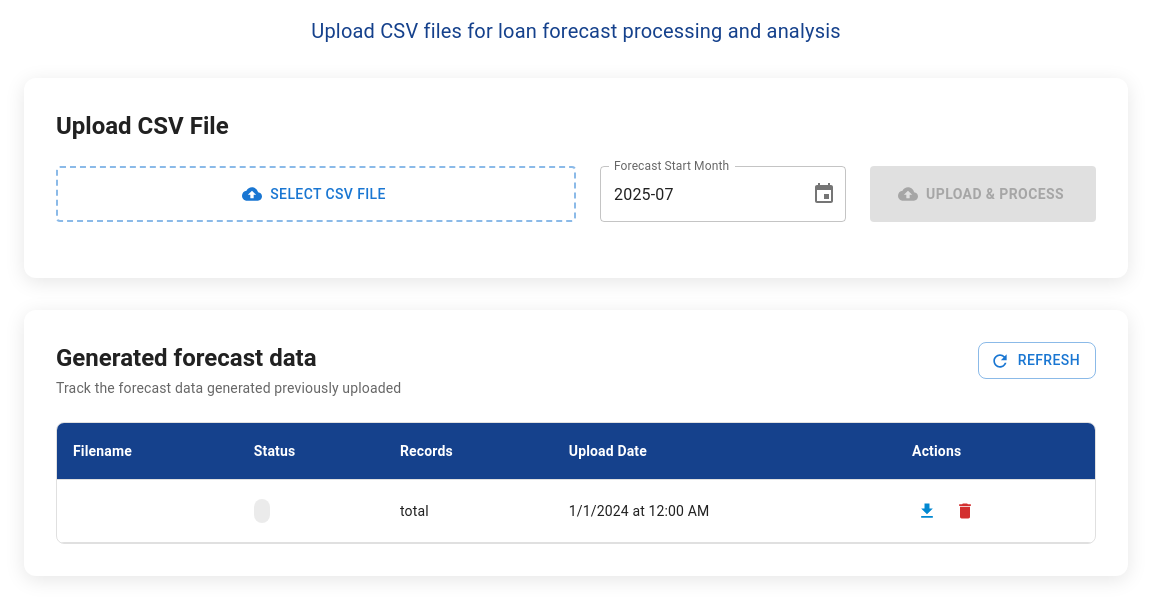
Test: DataUpload › shows error on deleteUploadHistory failure
(page scrolled)
Click the button with test id "DeleteIcon": [965, 511] box [950, 496, 980, 526]
(page scrolled)
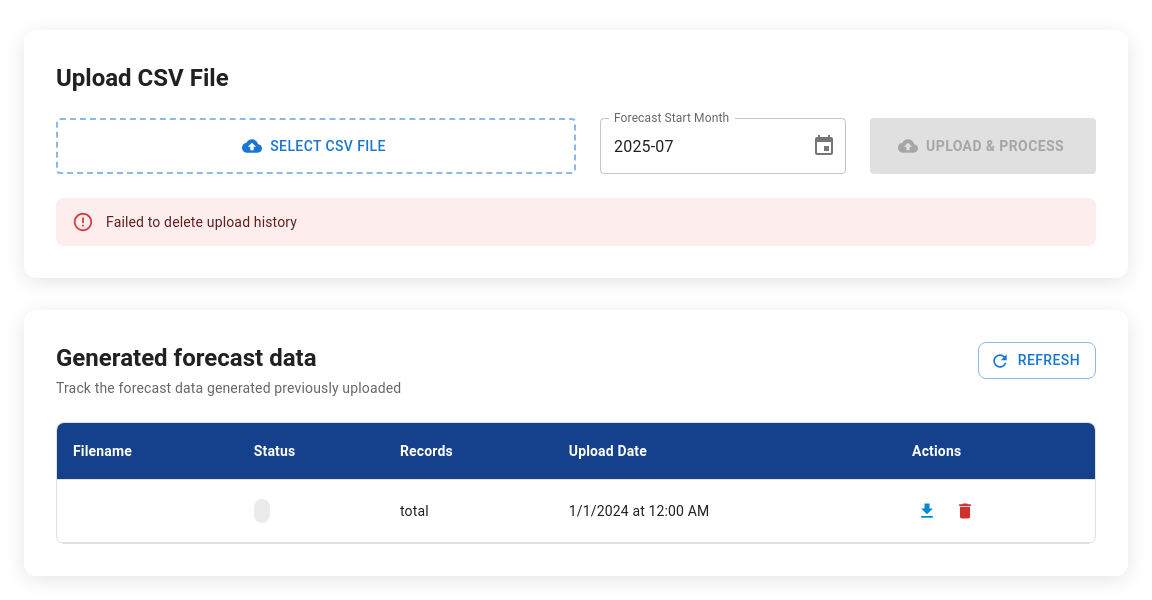
Expected: the text "Failed to delete upload history" is shown, [106, 214, 297, 230]
